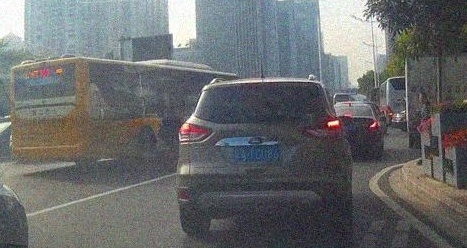L_light: (178, 123, 212, 142)
R_light: (305, 117, 345, 138)
T_light: (252, 83, 271, 87)
day-right: (176, 77, 352, 234)
